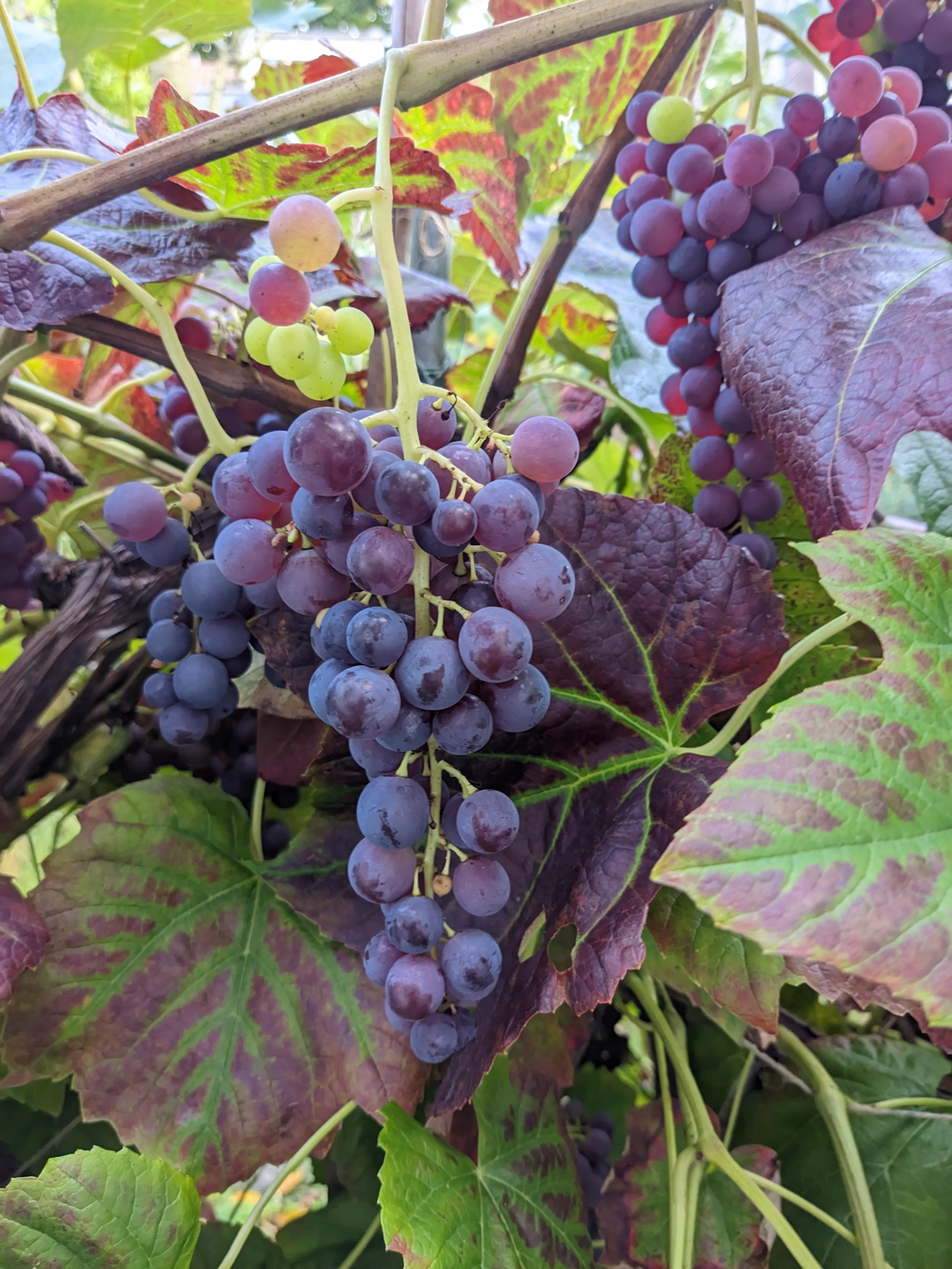Grape Unripe: (216, 398, 590, 1061), (601, 54, 947, 568), (112, 486, 285, 749), (243, 197, 377, 402), (162, 319, 298, 453), (803, 0, 952, 117), (0, 429, 78, 612)
